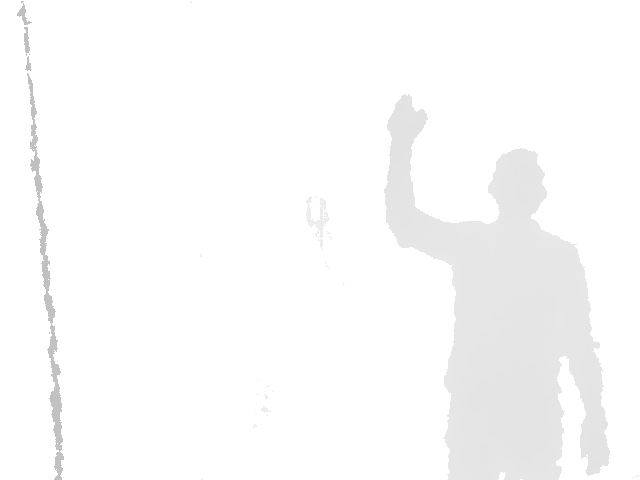hand: (385, 94, 429, 145)
head: (487, 147, 549, 223)
person: (382, 94, 610, 480)
